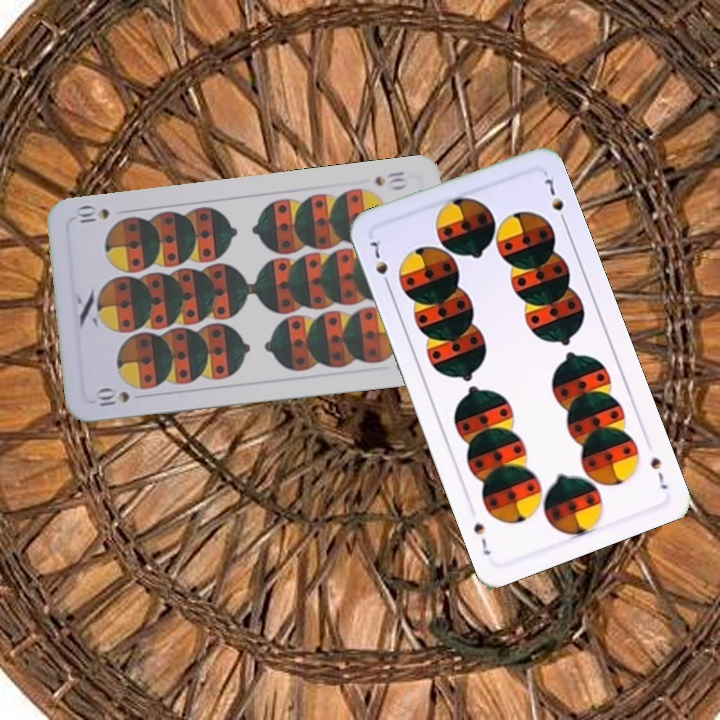S10: (370, 167, 410, 192), (94, 385, 132, 409)
S7: (366, 236, 393, 291), (646, 453, 671, 492)
